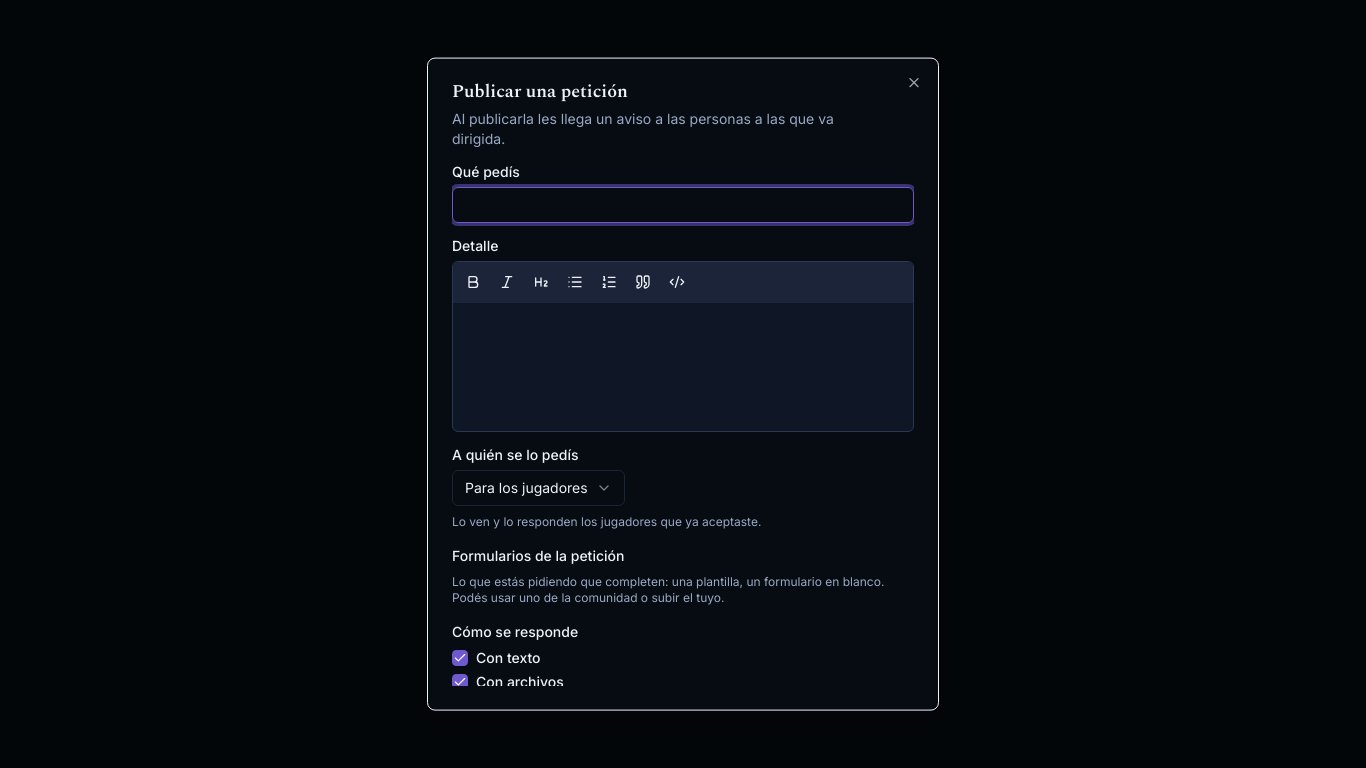
Test: TaskFormDialog › requires a recipient when the request is addressed to one person
This screenshot has width=1366, height=768.
In the field labelled "Qué pedís": (683, 205) [452,187,914,223], type "Tu material"
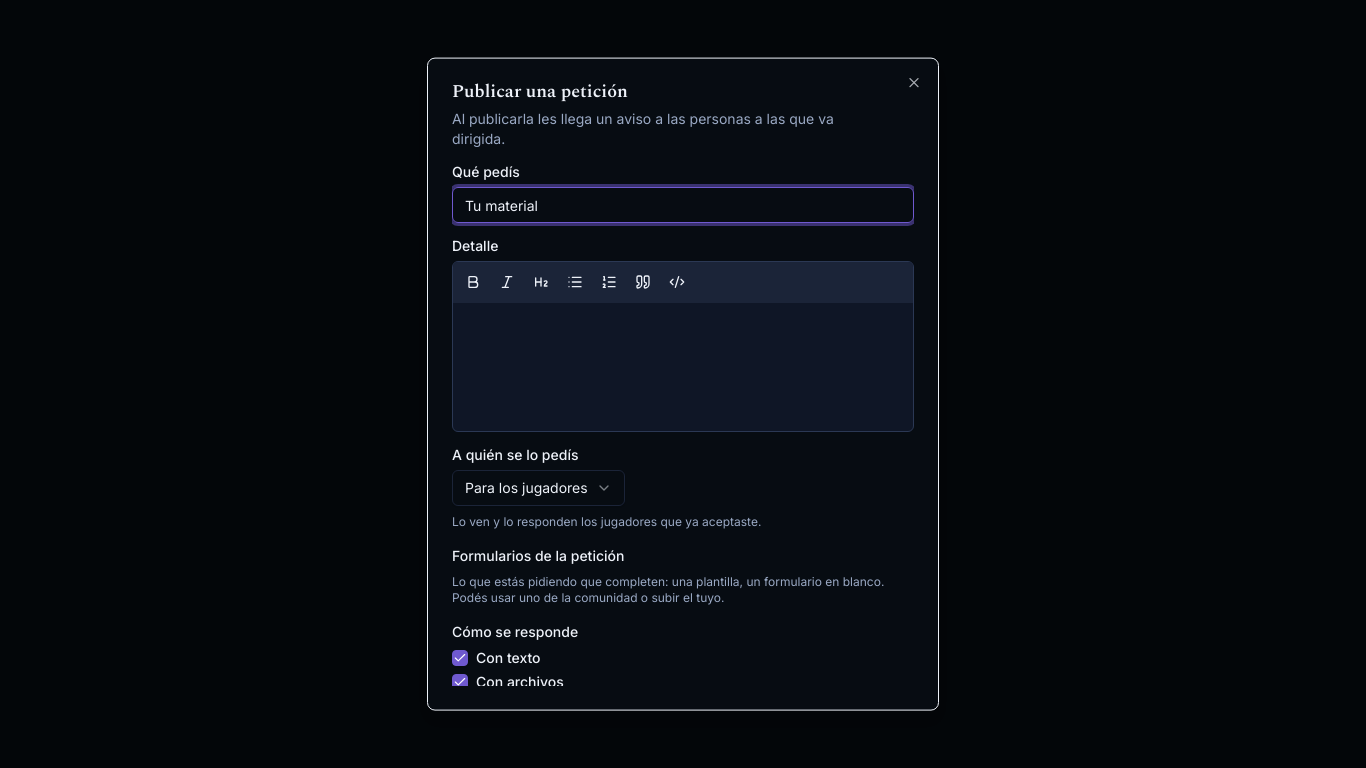
Click the dropdown named "A quién se lo pedís": (538, 488) [452,470,625,506]
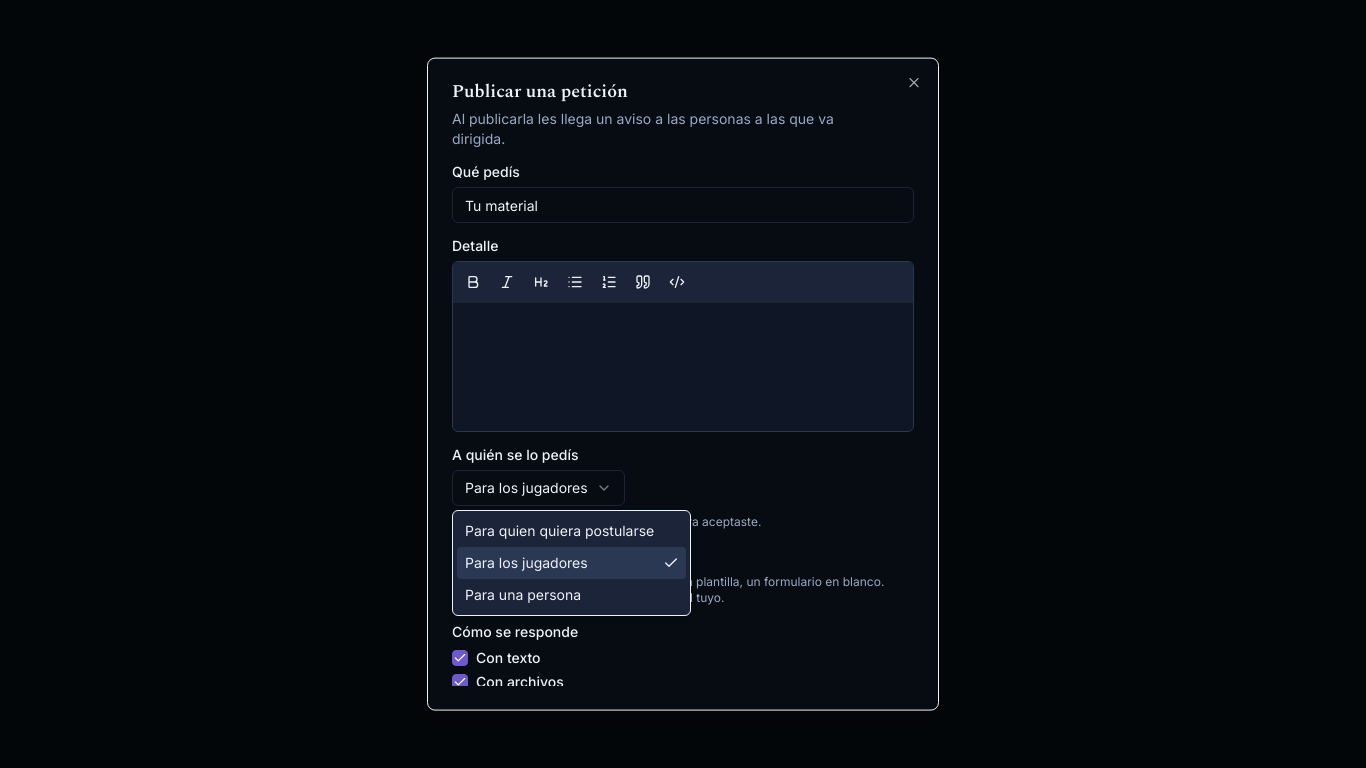
Click the option "Para una persona": (523, 594) [465,586,581,603]
(page scrolled)
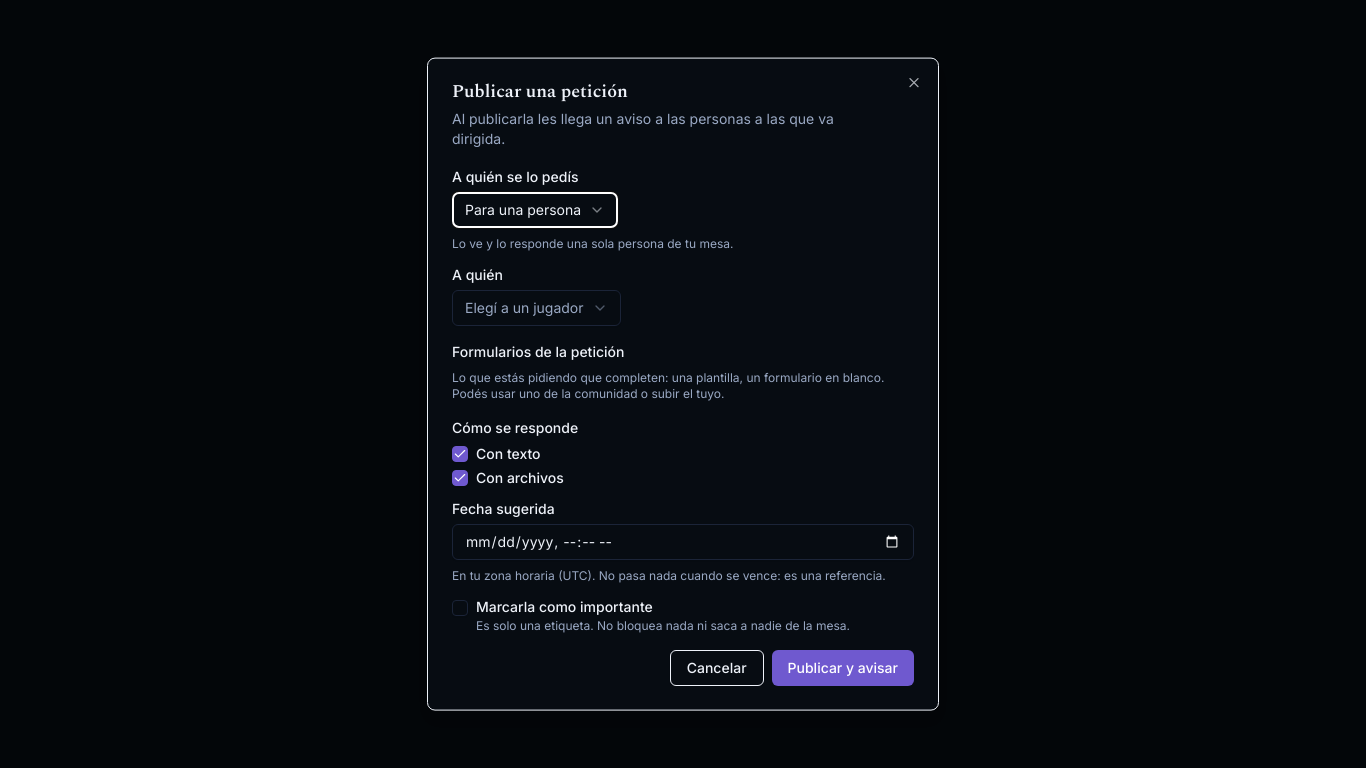
Click the button "Publicar y avisar": (843, 668) [772,650,914,686]
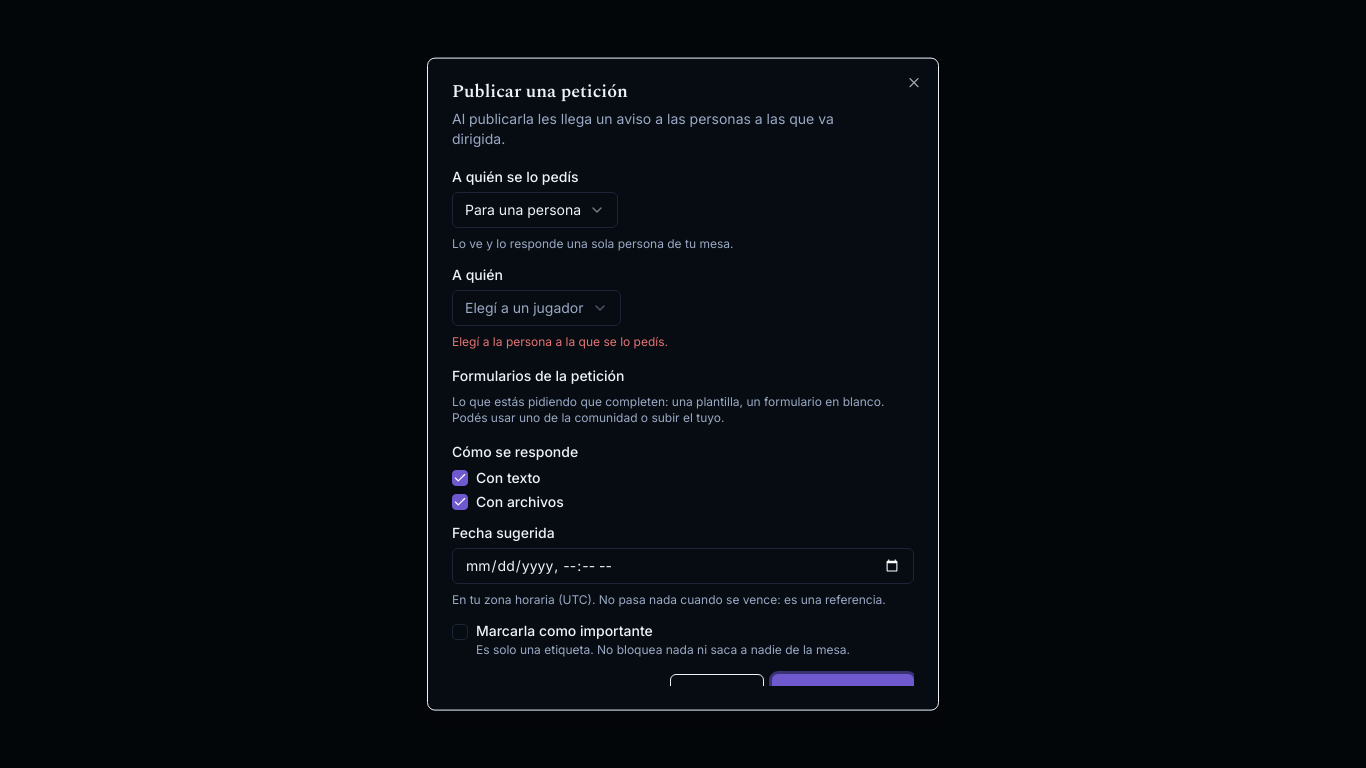
Expected: the text "Elegí a la persona a la que se lo pedís." is shown, [452,334,668,349]
